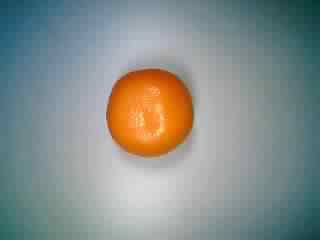orange: (101, 59, 196, 161)
